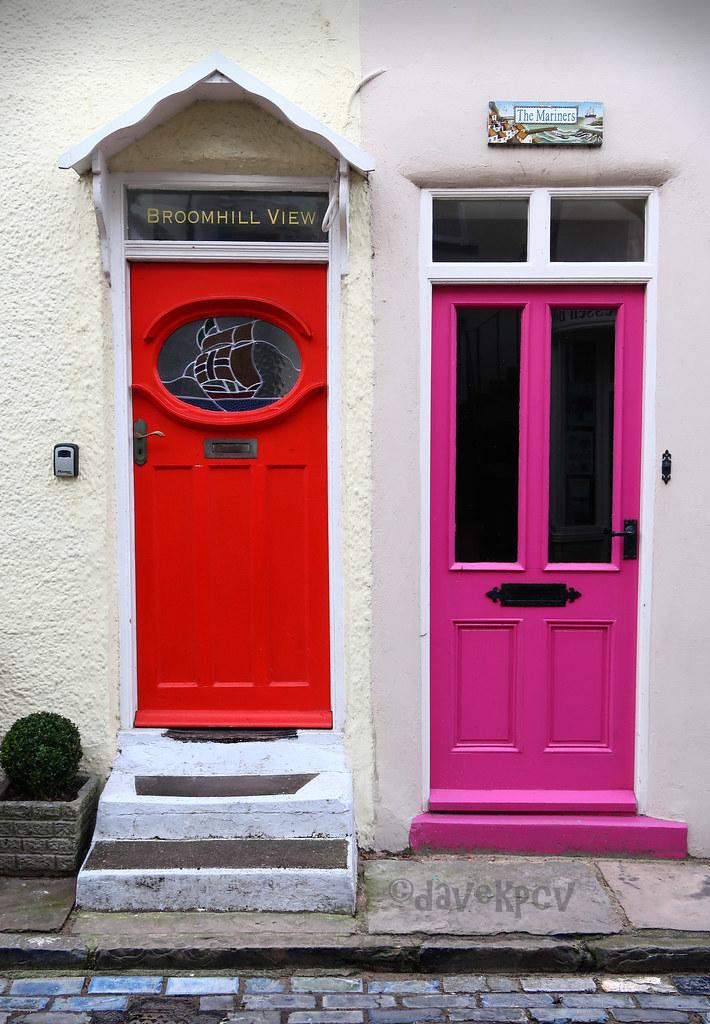door: (428, 281, 645, 812), (129, 259, 333, 730)
